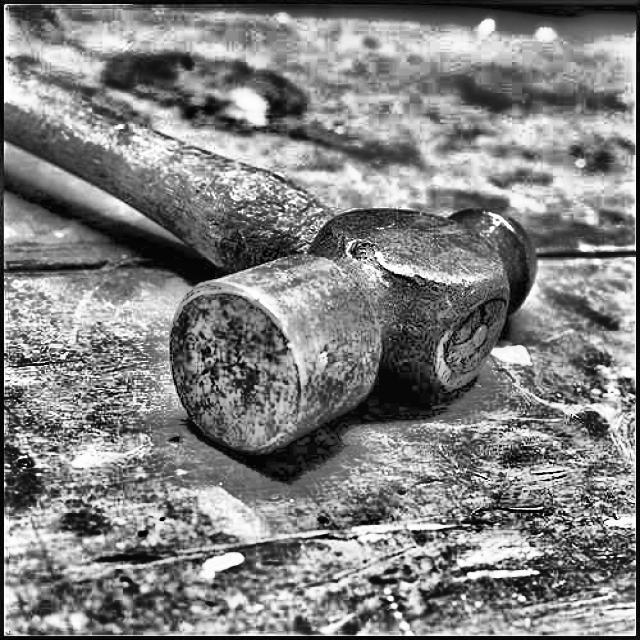hammer: (7, 54, 539, 456)
